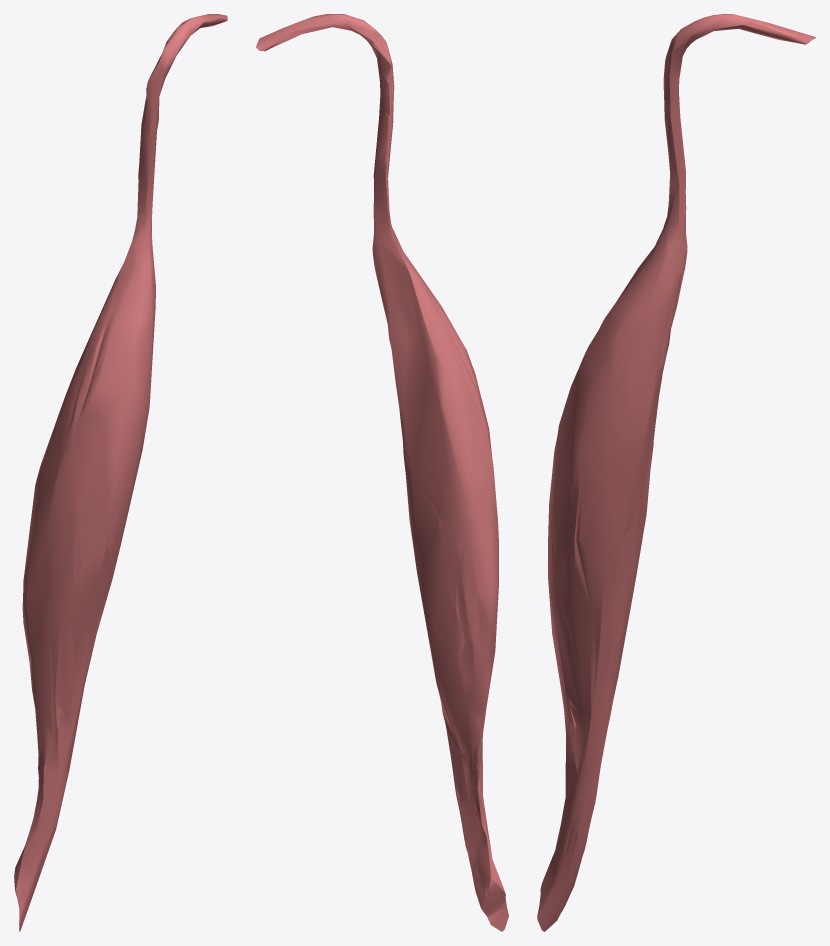
The picture shows the model from 3 angles, left to right: view 1: azimuth 30°, elevation 25°; view 2: azimuth 150°, elevation 25°; view 3: azimuth 330°, elevation 25°; orthographic projection. The views are drawn at different scales.
Parts seen in each view (by area): view 1: FJ1478; view 2: FJ1478; view 3: FJ1478.
Part boxes in pixels (x1,y1,x2,y2): FJ1478: [14, 14, 227, 931]; FJ1478: [256, 14, 508, 931]; FJ1478: [537, 14, 815, 931].
Size of the model in its own units: 0.0941 by 0.3435 by 0.0413.
